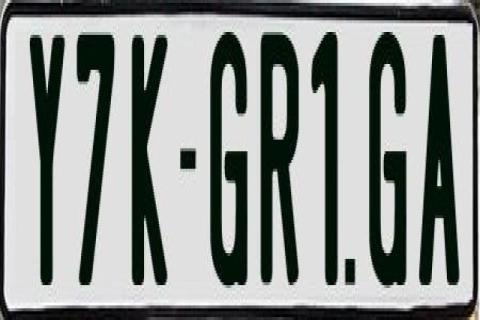0: (75, 26, 113, 294), (310, 27, 342, 297)
A: (416, 26, 458, 291)
G: (208, 32, 250, 302), (366, 23, 406, 297)
K: (131, 26, 167, 276)
R: (260, 32, 303, 302)
Y: (27, 29, 67, 288)
